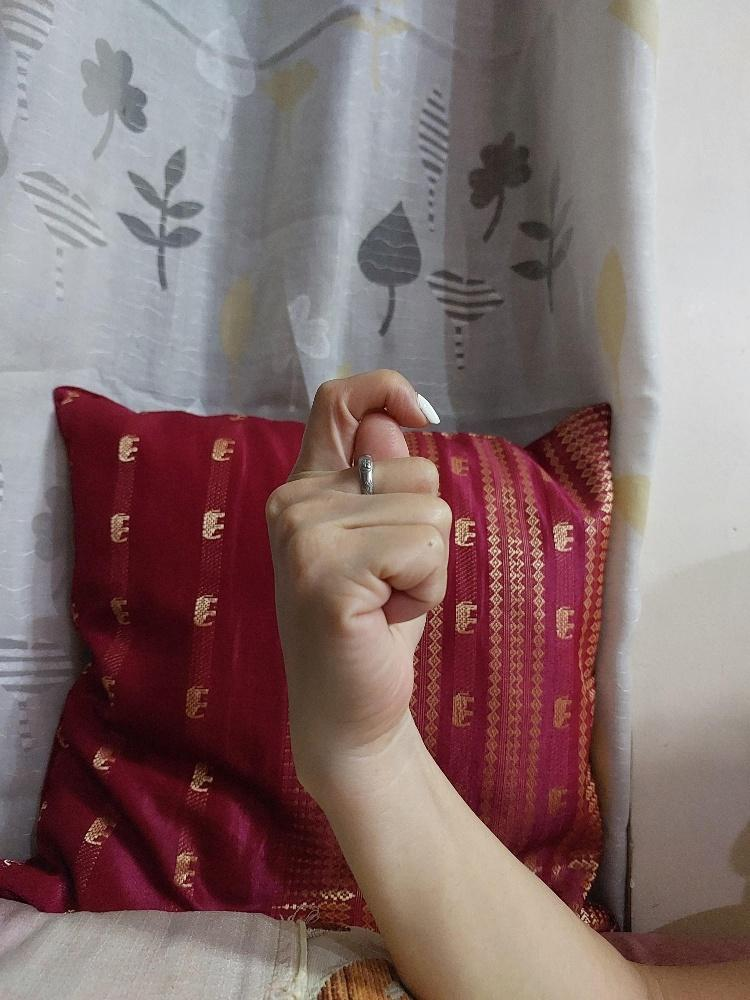t: (256, 364, 455, 754)
